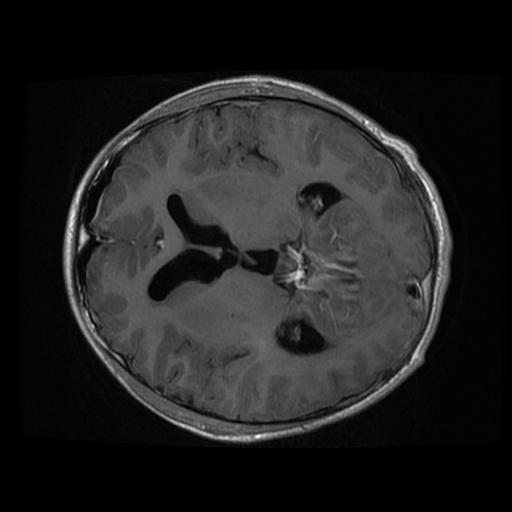glioma: (273, 216, 363, 325)
